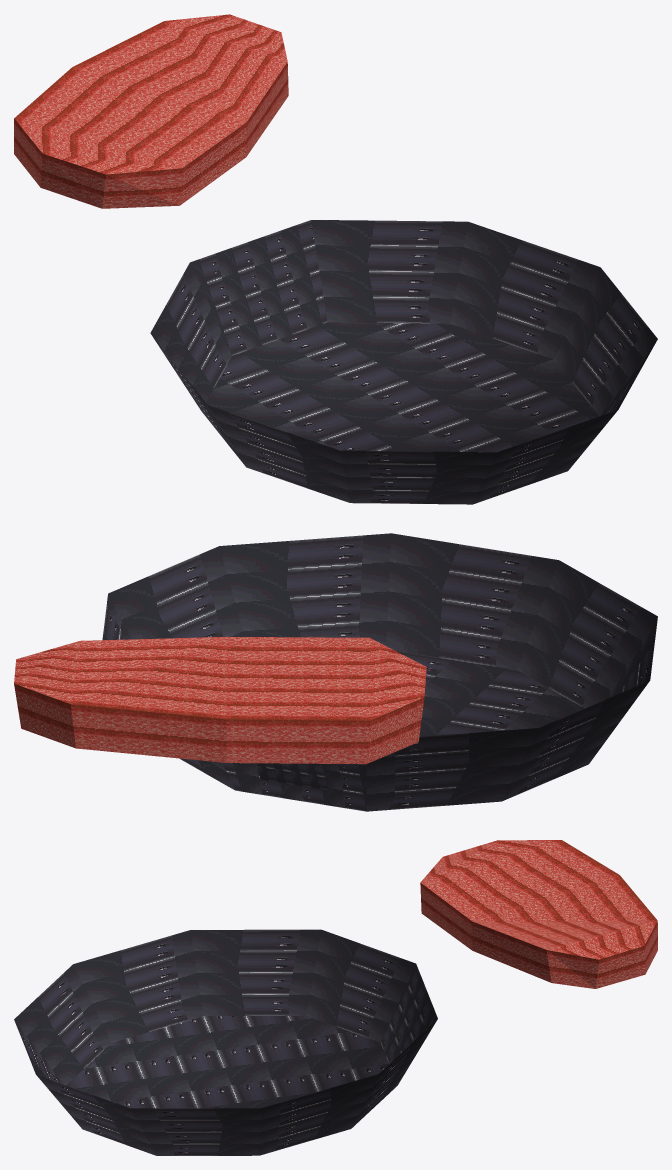
File: 1054item525.gltf
3 views of the same model, one above another, from view 1: azimuth 30°, elevation 25°; view 2: azimuth 150°, elevation 25°; view 3: azimuth 270°, elevation 25° (orthographic). The views are drawn at different scales.
Parts seen in each view (by area): view 1: 1054item525; view 2: 1054item525; view 3: 1054item525.
Part boxes in pixels (x1,y1,x2,y2): 1054item525: (14, 14, 657, 504); 1054item525: (14, 533, 657, 811); 1054item525: (14, 840, 657, 1155).
Size of what is drawn, in the model's own units: 0.8321 by 0.396 by 1.26.
Materials: 2 (2 with a texture image).
